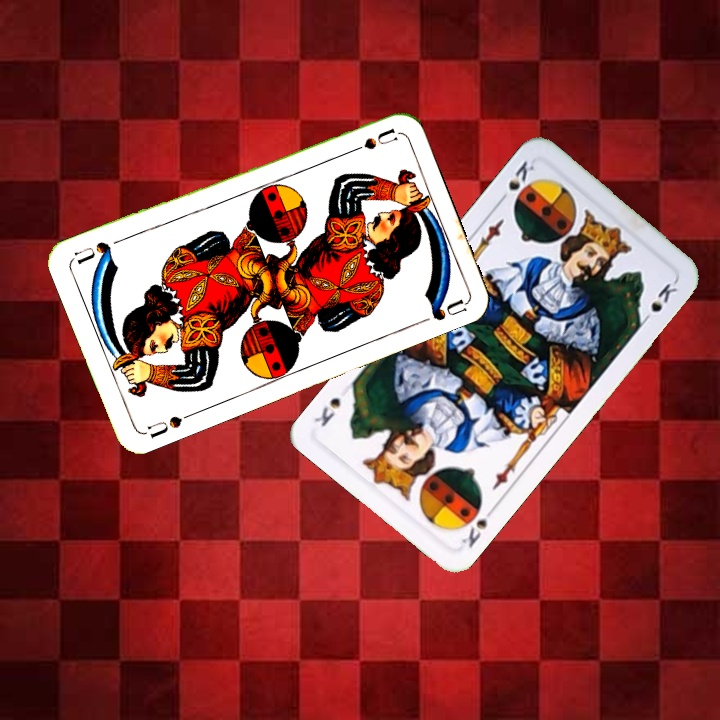SK: (494, 156, 537, 208), (457, 501, 497, 551)
SU: (341, 124, 400, 158), (143, 408, 197, 441)
